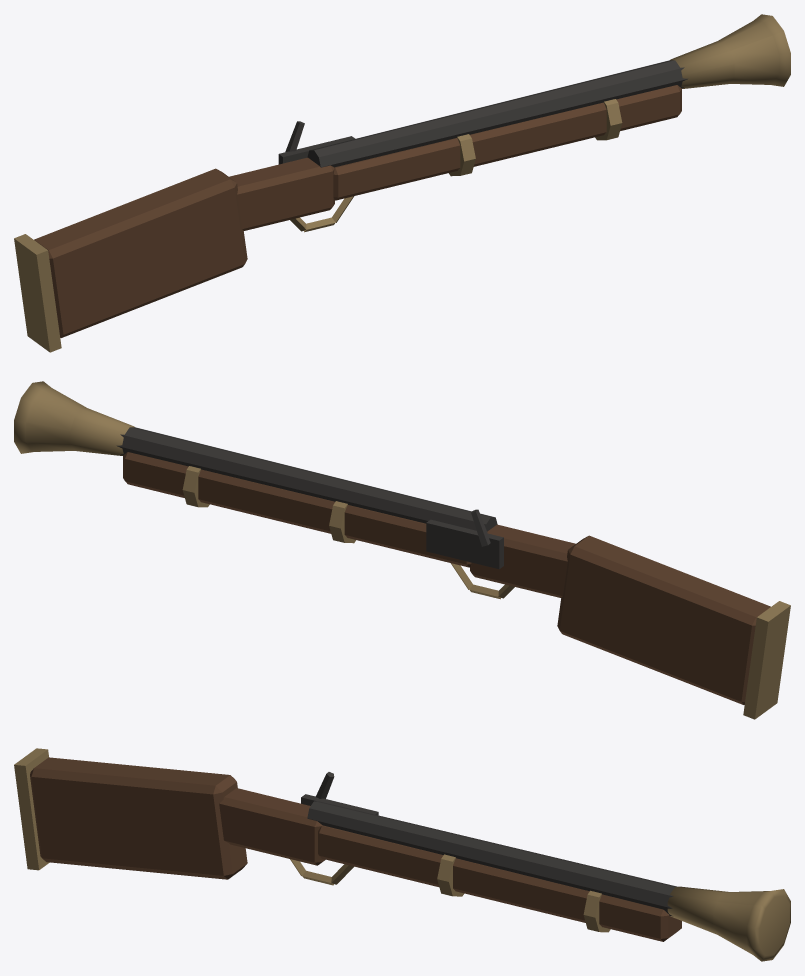
File: trabuco.glb
The picture shows the model from 3 angles, top to bottom: view 1: azimuth 30°, elevation 25°; view 2: azimuth 150°, elevation 25°; view 3: azimuth 330°, elevation 25°; orthographic projection.
Parts seen in each view (by area): view 1: Trabuco; view 2: Trabuco; view 3: Trabuco.
Boxes of the visible parts, box(x1,y1,x2,y2) form: Trabuco: box(14, 14, 790, 352); Trabuco: box(14, 381, 790, 719); Trabuco: box(14, 748, 790, 961).
Bounding box in the file's own units: 0.7679 × 0.1463 × 0.0647.
